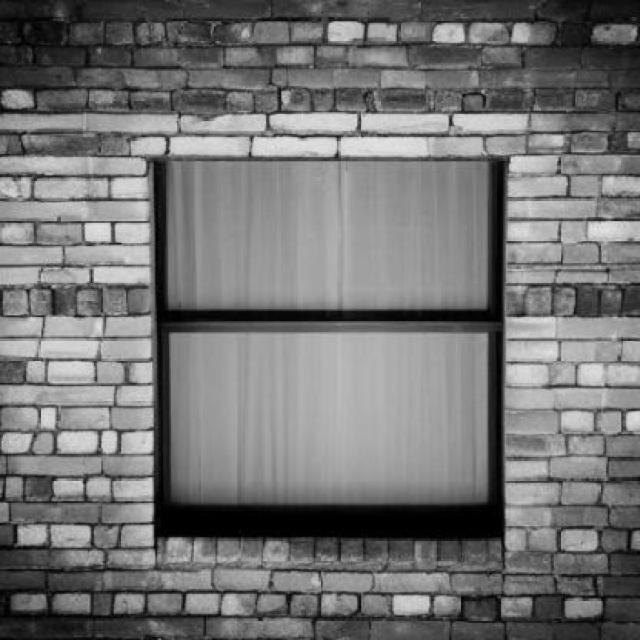window: (152, 163, 506, 539)
